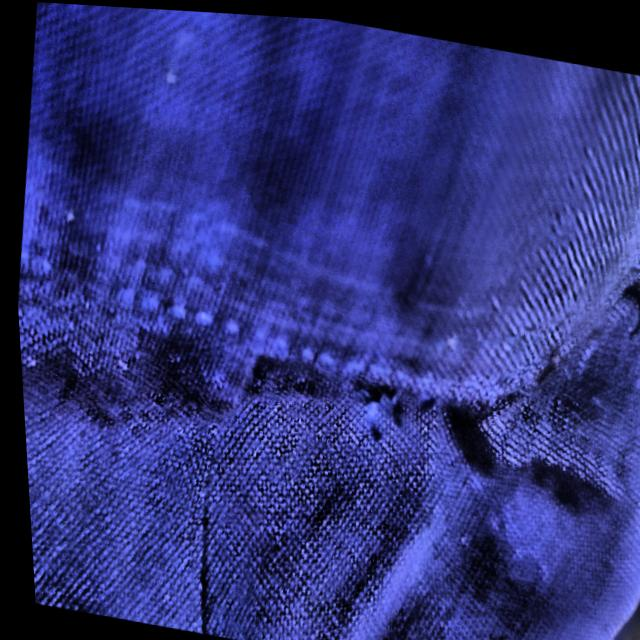Stitch: (313, 333, 530, 535), (598, 258, 640, 336)
